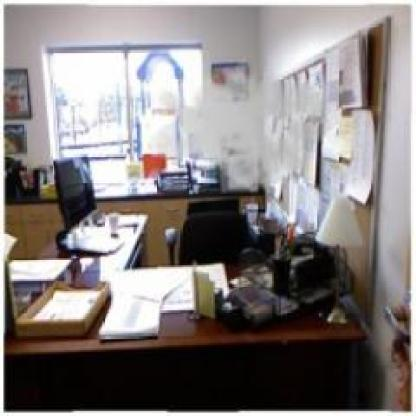Smoke: (149, 50, 333, 200)
